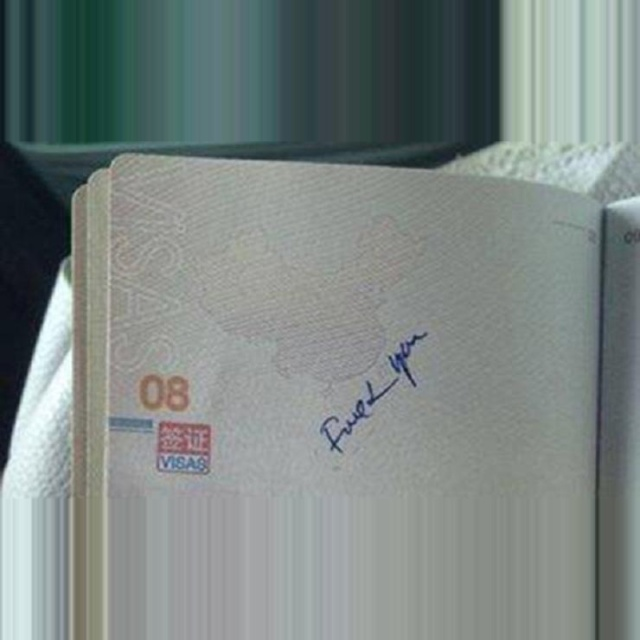Nine Dash Line: (294, 357, 394, 613)
